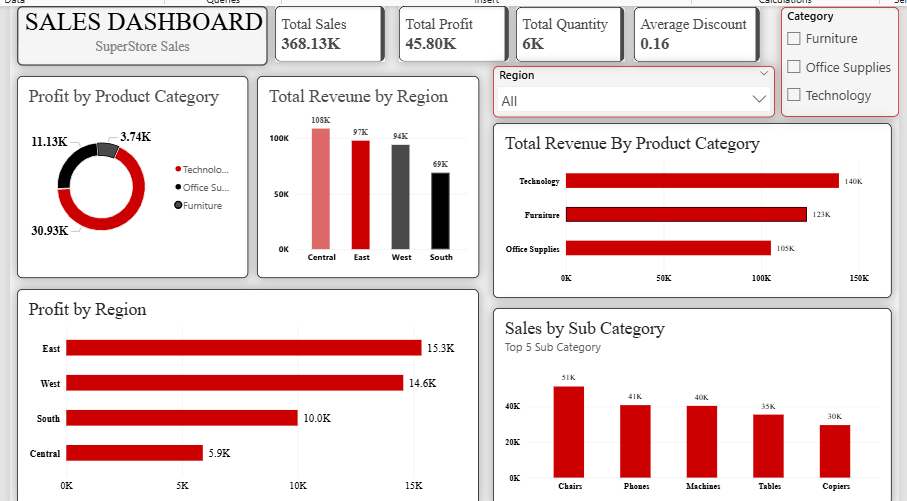

The page's visual inventory and layout, read from the dashboard file:
{"tool":"powerbi","page":{"name":"Sales Dashboard","canvas":[1280,720],"ordinal":0},"visuals":[{"type":"cardVisual","fields":{"Data":["Sum(Sample - Superstore.Sales)"]},"box":[381.6,0,158.4,80.6],"z":0},{"type":"cardVisual","fields":{"Data":["Sum(Sample - Superstore.Profit)"]},"box":[560.2,0,158.4,80.6],"z":1000},{"type":"cardVisual","fields":{"Data":["Sum(Sample - Superstore.Quantity)"]},"box":[728.6,1.4,157,79.2],"z":2000},{"type":"cardVisual","fields":{"Data":["Avg(Sample - Superstore.Discount)"]},"box":[898.6,1.4,181.4,79.2],"z":3000},{"type":"clusteredBarChart","title":"Total Revenue By Product Category","fields":{"Category":["Sample - Superstore.Category"],"Y":["Sum(Sample - Superstore.Sales)"]},"box":[695.4,168,573.9,252.1],"z":4000},{"type":"clusteredBarChart","title":"Profit by Region","fields":{"Category":["Sample - Superstore.Region"],"Y":["Sum(Sample - Superstore.Profit)"]},"box":[10.7,407.6,665,311.1],"z":5000},{"type":"slicer","fields":{"Values":["Sample - Superstore.Category"]},"box":[1110.2,1.4,169.9,158.4],"z":6000},{"type":"slicer","fields":{"Values":["Sample - Superstore.Region"]},"box":[695.3,86,405.6,73.7],"z":7000},{"type":"shape","title":"SALES DASHBOARD","box":[10.1,0,361.4,86.4],"z":8000},{"type":"clusteredColumnChart","title":"Sales by  Sub Category","fields":{"Category":["Sample - Superstore.Sub Category"],"Y":["Sum(Sample - Superstore.Sales)"]},"box":[695.4,434.4,573.9,284.2],"z":9000},{"type":"donutChart","title":"Profit by Product Category","fields":{"Category":["Sample - Superstore.Category"],"Y":["Sum(Sample - Superstore.Profit)"]},"box":[10.1,100.8,332.6,290.9],"z":10000},{"type":"clusteredColumnChart","title":"Total Reveune by Region","fields":{"Category":["Sample - Superstore.Region"],"Y":["Sum(Sample - Superstore.Sales)"]},"box":[355.8,100.1,320,291.4],"z":11000}]}

Visuals, with their boxes on the page's 1280x720 design canvas (x1, y1, x2, y2). These are canvas units, not pixel positions in the 907x501 screenshot, which may show the page scaled, cropped or inside an application window:
cardVisual - Sum(Sample - Superstore.Sales): BBox(382, 0, 540, 81)
cardVisual - Sum(Sample - Superstore.Profit): BBox(560, 0, 719, 81)
cardVisual - Sum(Sample - Superstore.Quantity): BBox(729, 1, 886, 81)
cardVisual - Avg(Sample - Superstore.Discount): BBox(899, 1, 1080, 81)
"Total Revenue By Product Category" clusteredBarChart: BBox(695, 168, 1269, 420)
"Profit by Region" clusteredBarChart: BBox(11, 408, 676, 719)
slicer - Sample - Superstore.Category: BBox(1110, 1, 1280, 160)
slicer - Sample - Superstore.Region: BBox(695, 86, 1101, 160)
"SALES DASHBOARD" shape: BBox(10, 0, 372, 86)
"Sales by  Sub Category" clusteredColumnChart: BBox(695, 434, 1269, 719)
"Profit by Product Category" donutChart: BBox(10, 101, 343, 392)
"Total Reveune by Region" clusteredColumnChart: BBox(356, 100, 676, 392)
